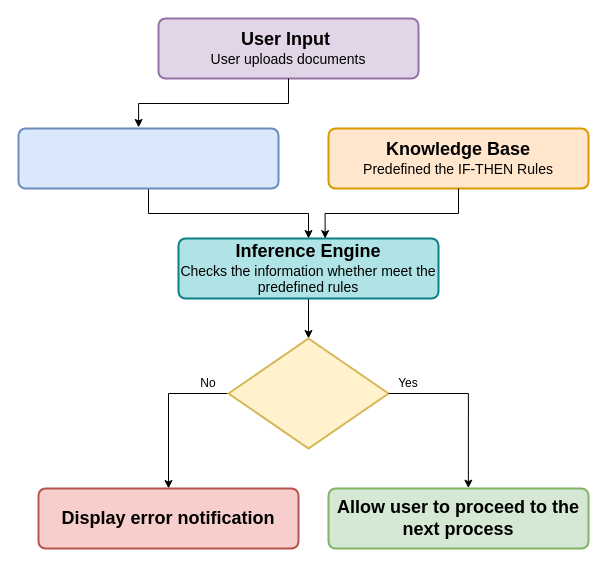
Image size: 606x566. Some labels were removed from this diagram. The shapes that lost their labels are listed below. From the top down, each one's centre as x and y in pixels, then its label:
the point at 148,158: Working Memory Stores uploaded document information
the point at 308,393: Document valid?
